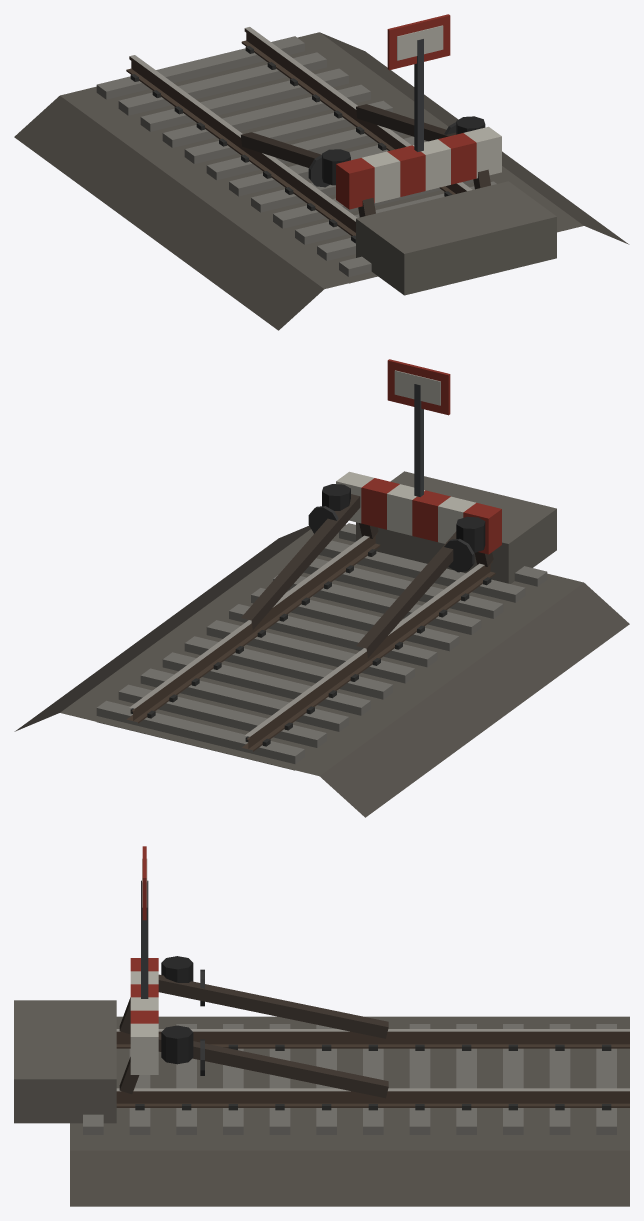
Rendered from tor-koziol-oporowy.glb.
The picture shows the model from 3 angles, top to bottom: view 1: azimuth 30°, elevation 25°; view 2: azimuth 150°, elevation 25°; view 3: azimuth 270°, elevation 25°; orthographic projection. The views are drawn at different scales.
Parts seen in each view (by area): view 1: tor-koziol-oporowy; view 2: tor-koziol-oporowy; view 3: tor-koziol-oporowy.
Boxes of the visible parts, x1=… form: tor-koziol-oporowy: x1=14, y1=14, x2=629, y2=330; tor-koziol-oporowy: x1=14, y1=359, x2=629, y2=817; tor-koziol-oporowy: x1=14, y1=846, x2=629, y2=1206.
Size of the model in its own units: 4.6 by 3 by 6.6.
